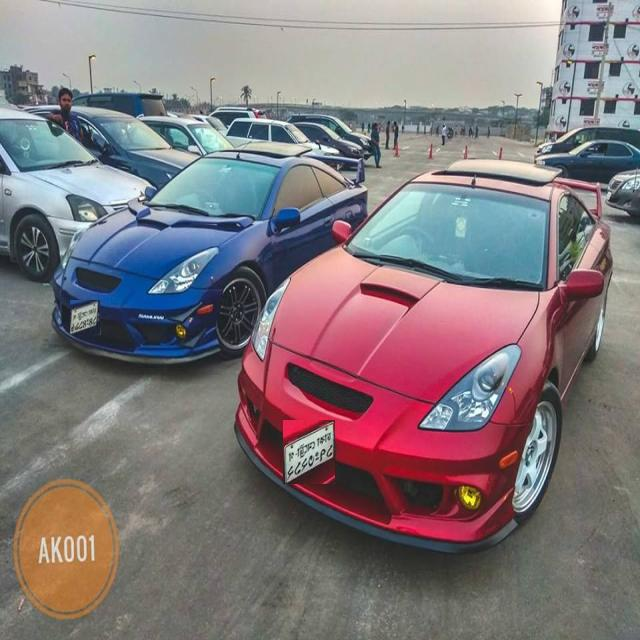numberplate: (284, 420, 336, 484), (70, 300, 100, 334)
